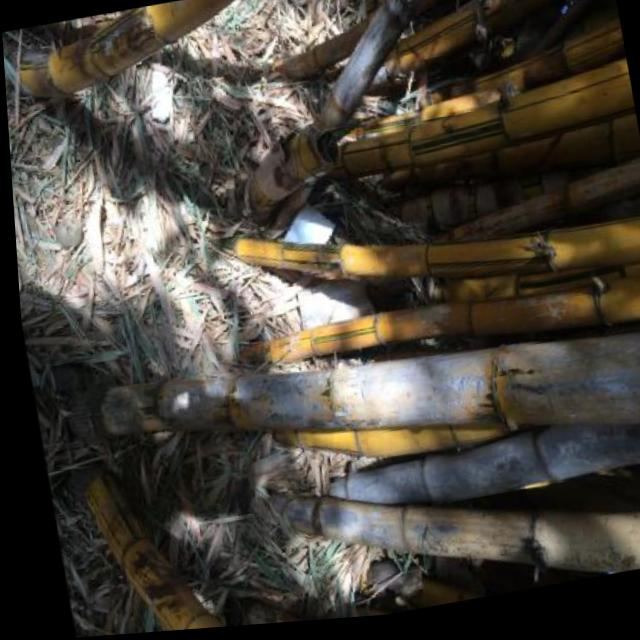plastic: (275, 197, 343, 280)
